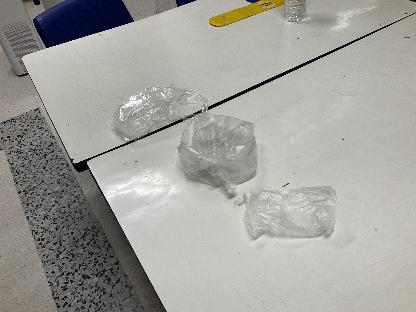Others: (176, 112, 260, 202), (108, 84, 209, 144), (238, 186, 343, 242)
